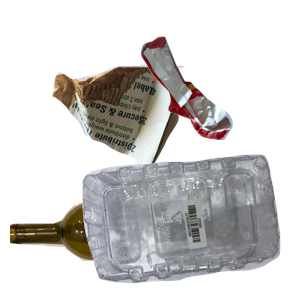cardboard: (50, 62, 228, 226)
glass: (10, 189, 250, 300)
plastic: (80, 152, 300, 300)
trash: (139, 34, 300, 167)
